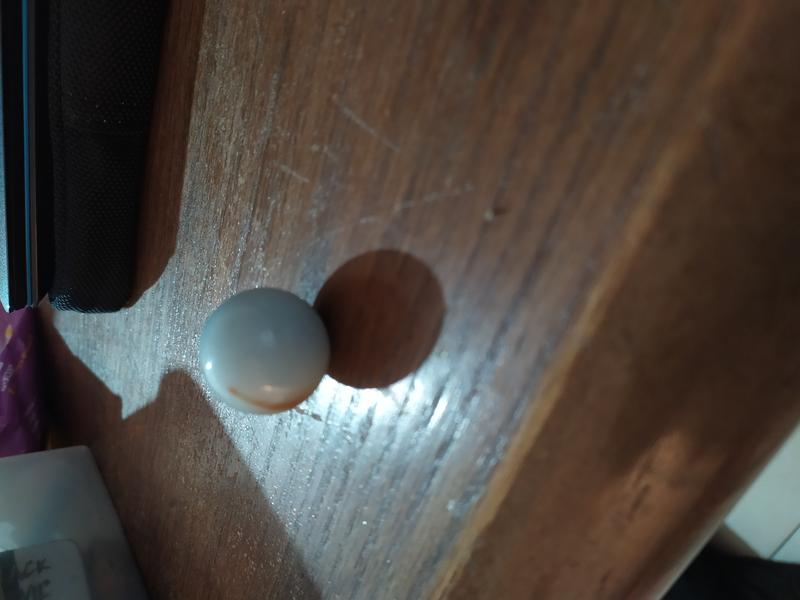Warning: (195, 283, 335, 418)
